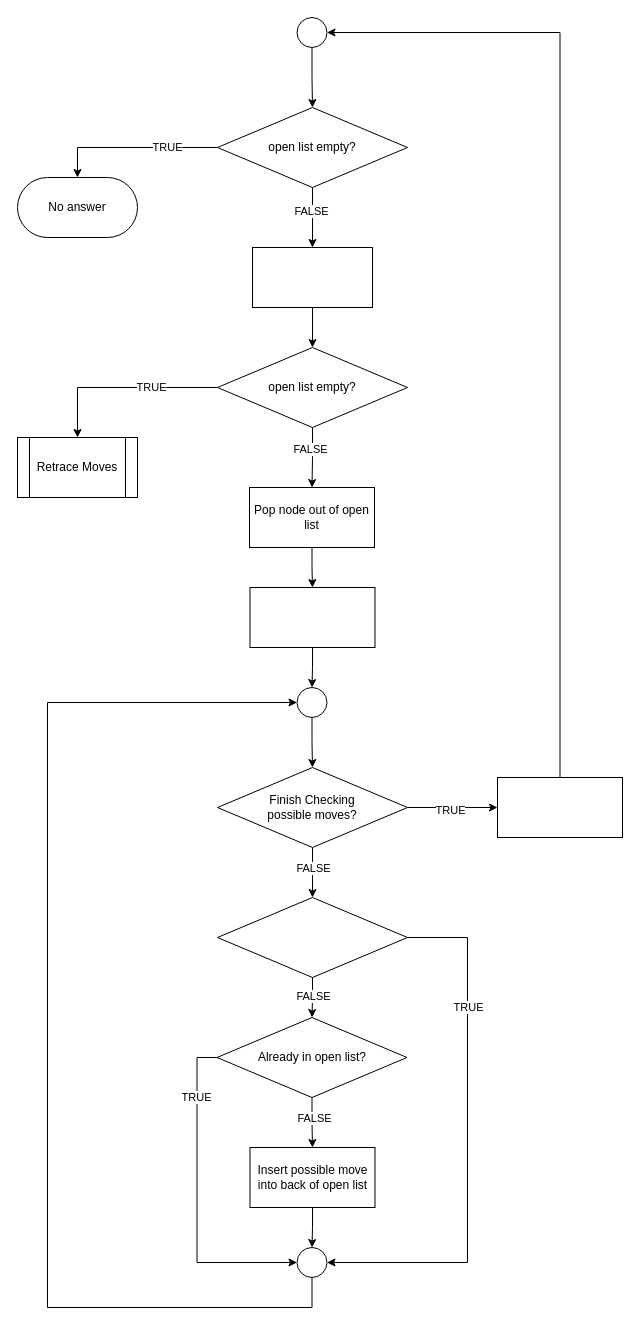
Image size: 640x1333. Some labels were removed from this diagram. Here are the shapes that lost their labels. From the top down, the centre of each, then its label:
At point (312, 277): "take first node in open list".
At point (312, 617): "Get possible moves".
At point (559, 807): "Insert node into back of closed list".
At point (312, 937): "Already in closed list?".
